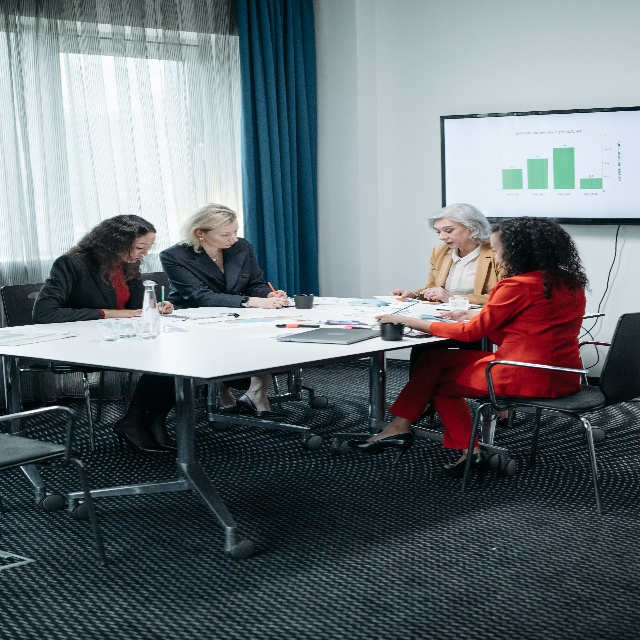Sin_guantes: (251, 296, 289, 311), (420, 287, 451, 304), (437, 310, 467, 322), (113, 306, 143, 318), (389, 288, 416, 300), (156, 299, 174, 316), (375, 313, 401, 324), (267, 288, 287, 299)
